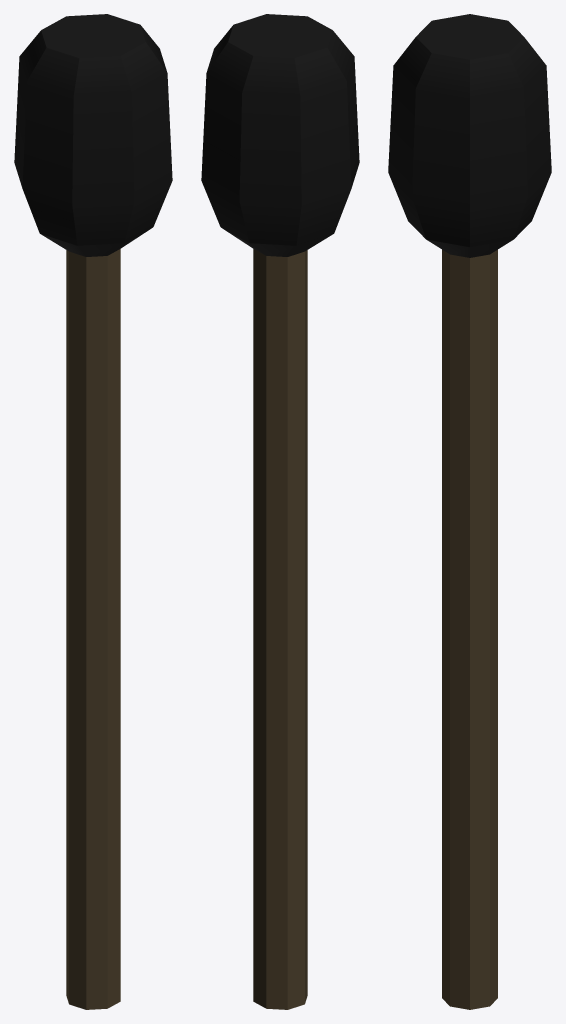
The model's file is Torch.fbx.
3 renders of one model, left to right at view 1: azimuth 30°, elevation 25°; view 2: azimuth 150°, elevation 25°; view 3: azimuth 270°, elevation 25°, orthographic.
Visible parts, largest first — view 1: pCylinder1; view 2: pCylinder1; view 3: pCylinder1.
Boxes of the visible parts, box(x1,y1,x2,y2) form: pCylinder1: box(14, 14, 172, 1009); pCylinder1: box(201, 14, 359, 1009); pCylinder1: box(388, 14, 551, 1009).
Bounding box in the file's own units: 0.2314 × 1.5 × 0.2314.
